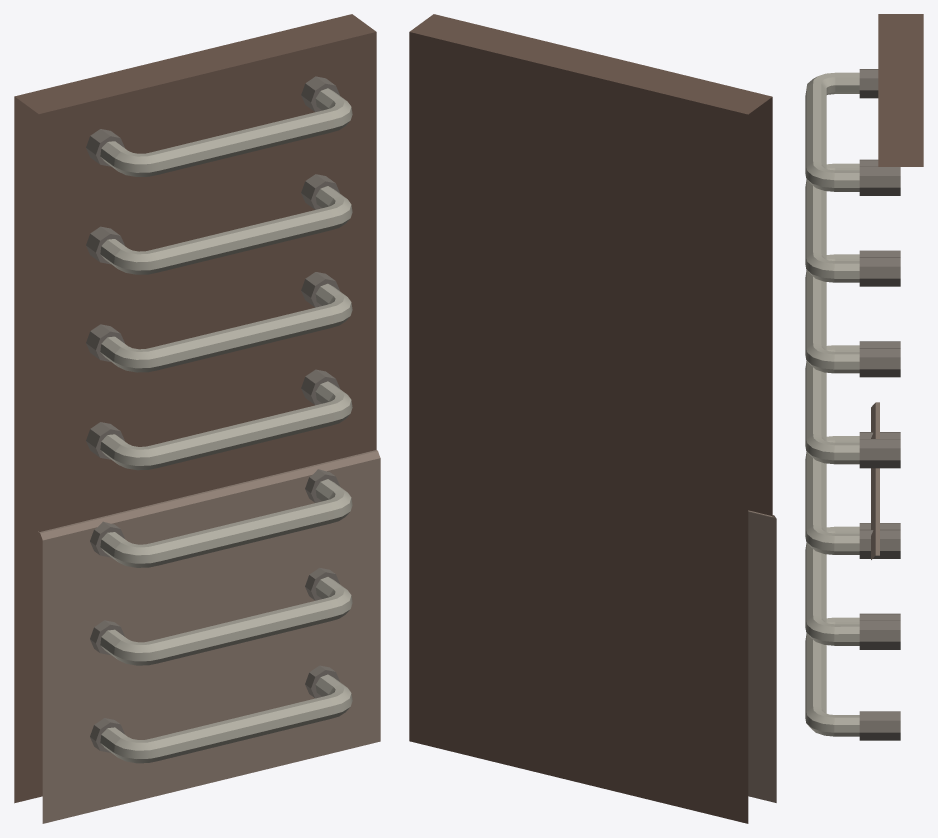
File: escaleras.fbx
3 renders of one model, left to right at view 1: azimuth 30°, elevation 25°; view 2: azimuth 150°, elevation 25°; view 3: azimuth 270°, elevation 25°, orthographic. The views are drawn at different scales.
Visible parts, largest first — view 1: base, zocalo, escalon_2, escalon_5, escalon_6, escalon_3, escalon_1, escalon_7, escalon_4, escalon_conexion_9, escalon_conexion_7, escalon_conexion_11 (+1 smaller); view 2: base, zocalo; view 3: base, escalon_7, escalon_4, escalon_2, escalon_6, escalon_1, escalon_5, escalon_3, escalon_conexion_2, escalon_conexion_12, escalon_conexion_4, escalon_conexion_8 (+8 smaller).
Part boxes in pixels (<box>): base: <box>14,14,376,803</box>; zocalo: <box>38,450,380,823</box>; escalon_2: <box>100,577,352,665</box>; escalon_5: <box>100,283,352,372</box>; escalon_6: <box>100,186,352,274</box>; escalon_3: <box>100,479,352,567</box>; escalon_1: <box>100,674,352,763</box>; escalon_7: <box>100,88,352,176</box>; escalon_4: <box>100,381,352,470</box>; escalon_conexion_9: <box>86,324,124,361</box>; escalon_conexion_7: <box>86,422,124,459</box>; escalon_conexion_11: <box>86,226,124,264</box>; base: <box>409,14,772,823</box>; zocalo: <box>748,510,776,802</box>; base: <box>878,14,923,166</box>; escalon_7: <box>805,72,859,191</box>; escalon_4: <box>805,345,859,464</box>; escalon_2: <box>805,526,859,645</box>; escalon_6: <box>805,163,859,282</box>; escalon_1: <box>805,617,859,736</box>; escalon_5: <box>805,254,859,373</box>; escalon_3: <box>805,436,859,554</box>; escalon_conexion_2: <box>859,711,900,740</box>; escalon_conexion_12: <box>859,257,900,286</box>; escalon_conexion_4: <box>859,620,900,649</box>; escalon_conexion_8: <box>859,439,900,468</box>.
Size of the model in its own units: 100 by 200 by 32.59.
